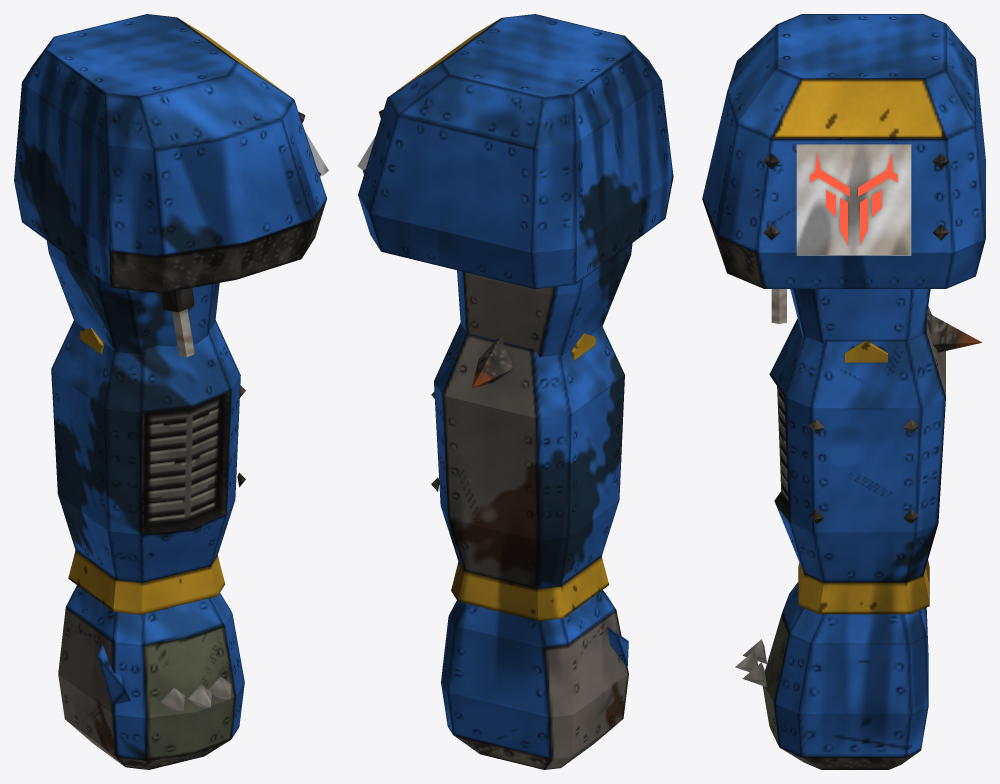
Rendered from RightBasicHandArmY.glb.
3 renders of one model, left to right at view 1: azimuth 30°, elevation 25°; view 2: azimuth 150°, elevation 25°; view 3: azimuth 270°, elevation 25°, orthographic.
Visible parts, largest first — view 1: RightBasicHandArmY_Upper, RightBasicHandArmY_Fore, RightBasicHandArmY_Fist; view 2: RightBasicHandArmY_Upper, RightBasicHandArmY_Fore, RightBasicHandArmY_Fist; view 3: RightBasicHandArmY_Upper, RightBasicHandArmY_Fore, RightBasicHandArmY_Fist.
Boxes of the visible parts, left/top/right/bottom form: RightBasicHandArmY_Upper: left=14, top=14, right=328, bottom=357; RightBasicHandArmY_Fore: left=51, top=320, right=245, bottom=614; RightBasicHandArmY_Fist: left=58, top=585, right=244, bottom=769; RightBasicHandArmY_Upper: left=357, top=14, right=673, bottom=357; RightBasicHandArmY_Fore: left=431, top=322, right=624, bottom=620; RightBasicHandArmY_Fist: left=441, top=590, right=628, bottom=769; RightBasicHandArmY_Upper: left=702, top=14, right=985, bottom=343; RightBasicHandArmY_Fore: left=769, top=306, right=981, bottom=614; RightBasicHandArmY_Fist: left=735, top=582, right=928, bottom=769.
Size of the model in its own units: 5.6 by 15.5 by 5.7.
Materials: 12 (11 with a texture image).
